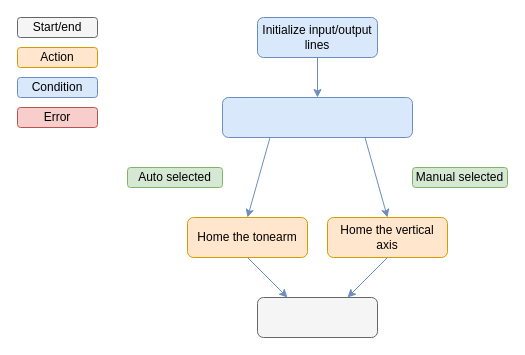
The diagram is 525 pixels wide and 355 high, and some of its shapes have lost their labels. Each missing label, with the centre of its shape:
Check auto/manual switch status: (x=317, y=117)
Enter super loop: (x=317, y=317)
